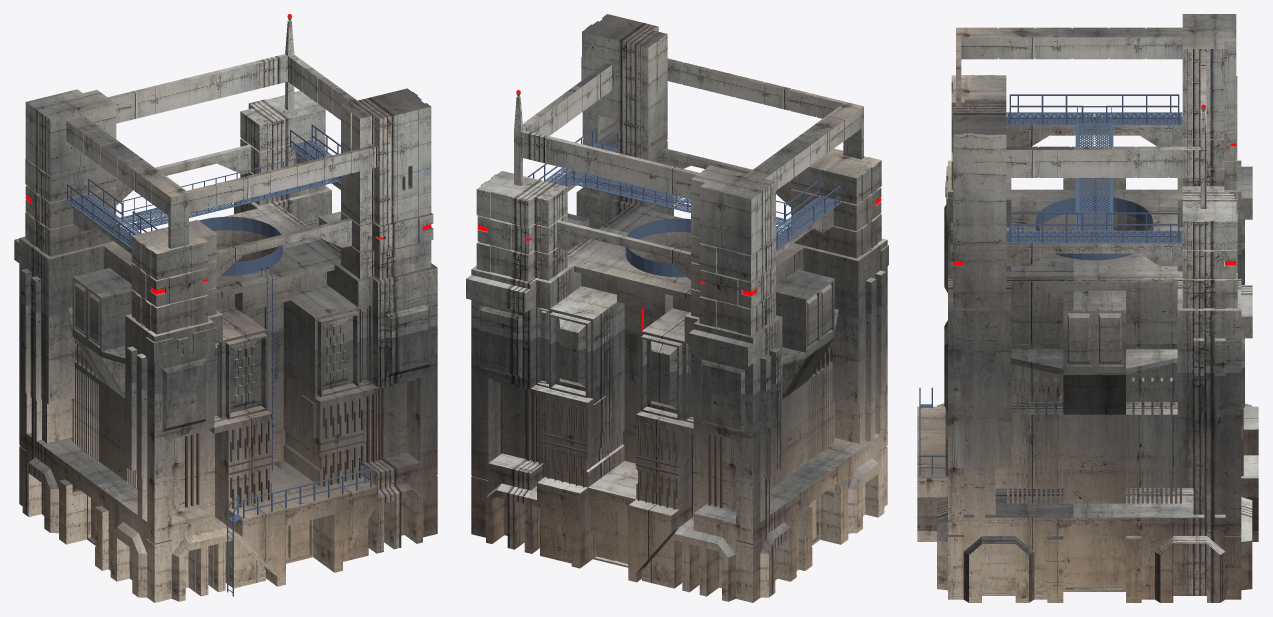
Rendered from Khaured_Tower_1.glb.
3 views of the same model, side by side, from view 1: azimuth 30°, elevation 25°; view 2: azimuth 150°, elevation 25°; view 3: azimuth 270°, elevation 25° (orthographic). The views are drawn at different scales.
Visible parts, largest first — view 1: Building, Circle, Cube.002; view 2: Building, Circle; view 3: Building, Circle.
Boxes of the visible parts, bbox=[...] form: Building: bbox=[14, 14, 437, 602]; Circle: bbox=[199, 216, 282, 275]; Cube.002: bbox=[261, 267, 276, 470]; Building: bbox=[466, 14, 888, 602]; Circle: bbox=[625, 218, 690, 277]; Building: bbox=[917, 14, 1258, 602]; Circle: bbox=[1036, 196, 1153, 260].
Size of the model in its own units: 47.05 by 66.92 by 43.24.
Materials: 5 (1 with a texture image).
